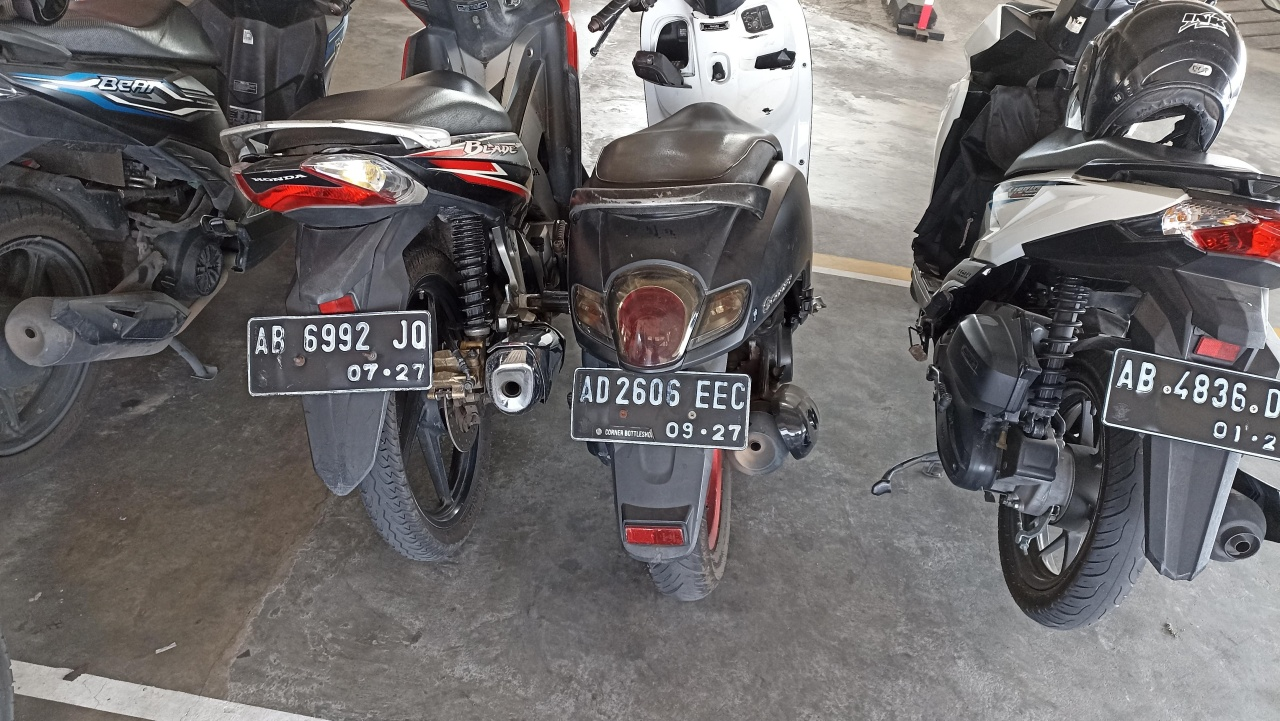plate: (1100, 347, 1280, 463), (248, 310, 432, 396), (570, 369, 751, 450)
